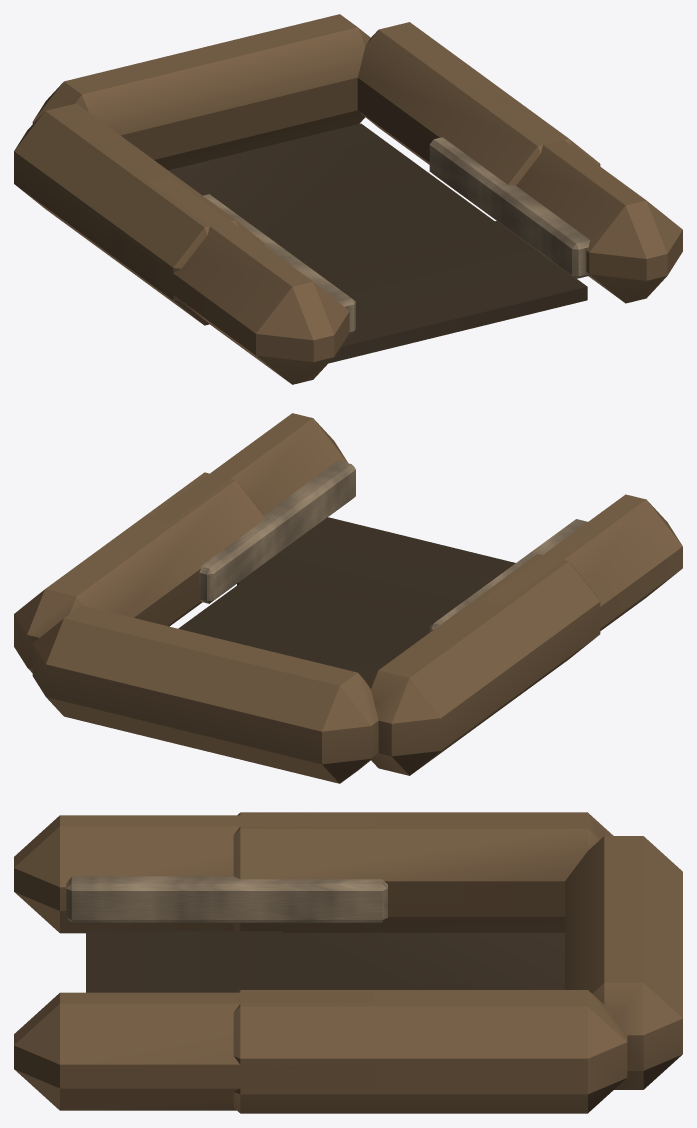
Rendered from trench_end.glb.
3 renders of one model, top to bottom at view 1: azimuth 30°, elevation 25°; view 2: azimuth 150°, elevation 25°; view 3: azimuth 270°, elevation 25°, orthographic. The views are drawn at different scales.
Visible parts, largest first — view 1: Earth revetment, Trench dark earth, Timber worn edges; view 2: Earth revetment, Trench dark earth, Timber worn edges; view 3: Earth revetment, Trench dark earth, Timber worn edges.
Boxes of the visible parts, x1,y1,x2,y2 form: Earth revetment: (14,14,682,384); Trench dark earth: (168,123,587,363); Timber worn edges: (203,137,590,334); Earth revetment: (14,413,682,783); Trench dark earth: (178,517,515,680); Timber worn edges: (199,461,587,632); Earth revetment: (14,812,682,1113); Trench dark earth: (86,931,564,992); Timber worn edges: (66,876,387,922).
Bounding box in the file's own units: 0.82 × 0.18 × 1.02.
3 materials, 1 textured.
